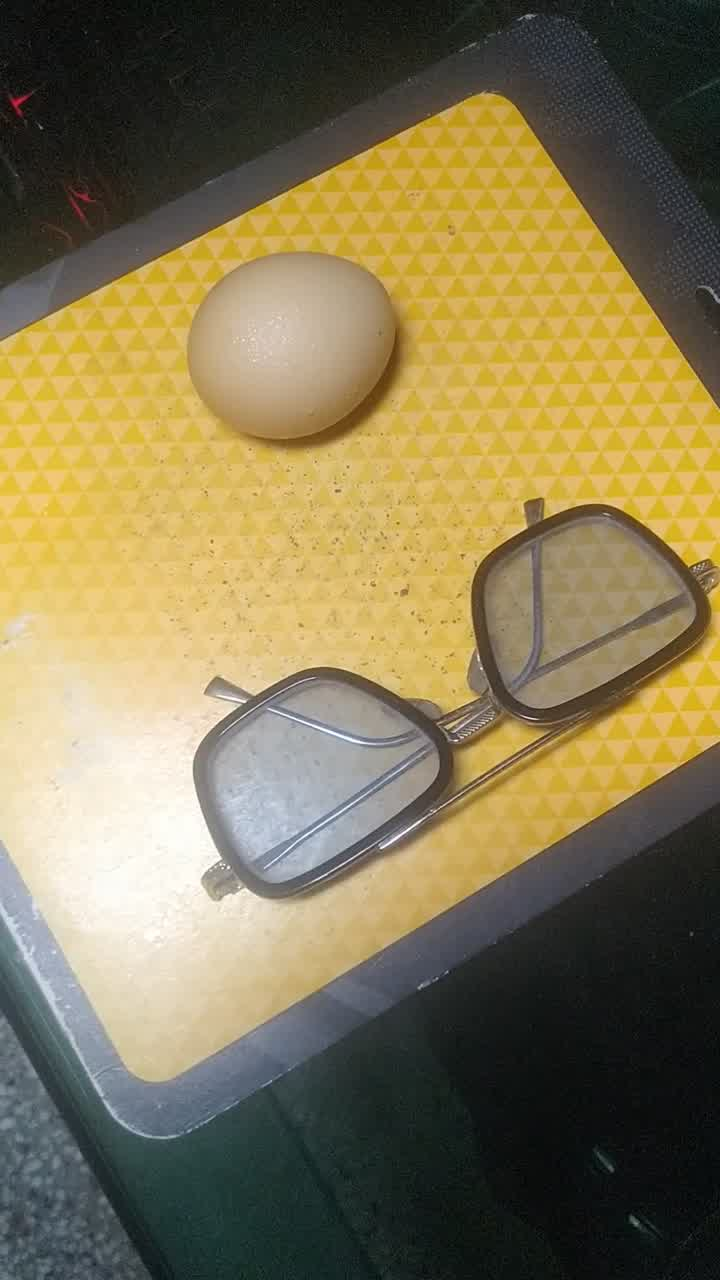egg: (180, 244, 408, 447)
sunglass: (148, 496, 717, 904)
